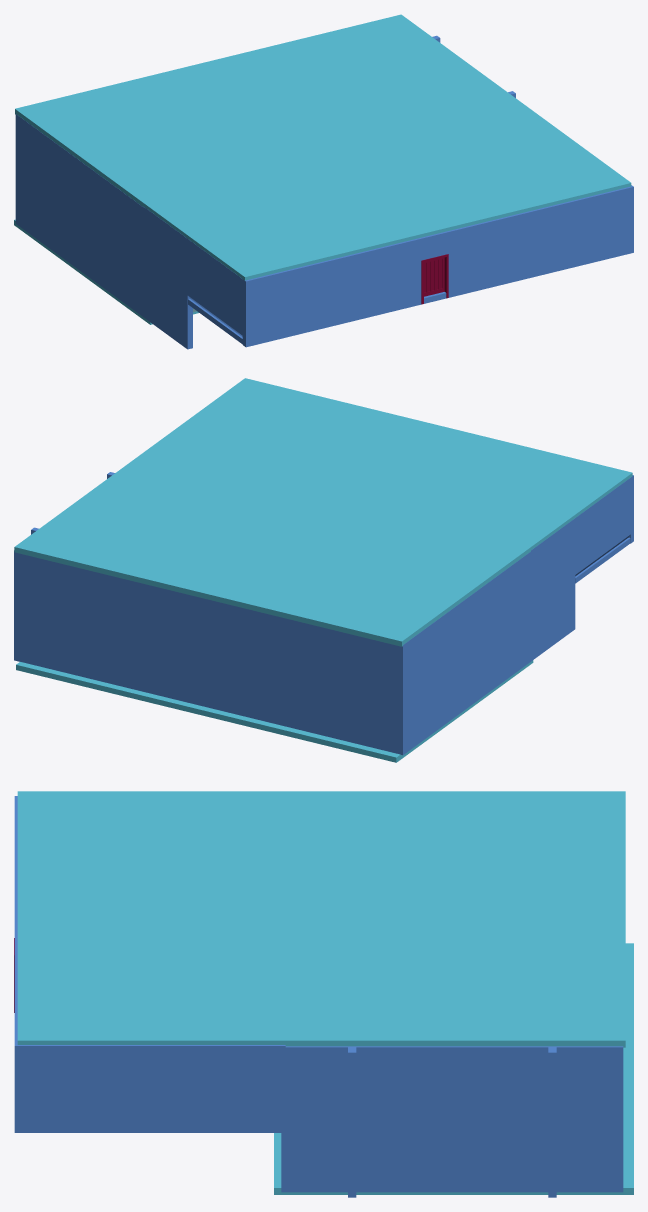
File: stonetee.obj
3 views of the same model, one above another, from view 1: azimuth 30°, elevation 25°; view 2: azimuth 150°, elevation 25°; view 3: azimuth 270°, elevation 25° (orthographic). The views are drawn at different scales.
Visible parts, largest first — view 1: Box02, Wall03, PivotDoor14, Box03; view 2: Box02, Wall03, Box03; view 3: Box02, Wall03, Box03.
Boxes of the visible parts, x1=… form: Box02: x1=15, y1=14, x2=631, y2=280; Wall03: x1=15, y1=35, x2=633, y2=349; PivotDoor14: x1=421, y1=254, x2=448, y2=304; Box03: x1=14, y1=219, x2=198, y2=324; Box02: x1=14, y1=378, x2=632, y2=646; Wall03: x1=14, y1=472, x2=633, y2=755; Box03: x1=16, y1=660, x2=533, y2=762; Box02: x1=17, y1=791, x2=625, y2=1047; Wall03: x1=14, y1=796, x2=623, y2=1197; Box03: x1=274, y1=943, x2=633, y2=1194.
Bounding box in the file's own units: 362 × 107 × 372.
